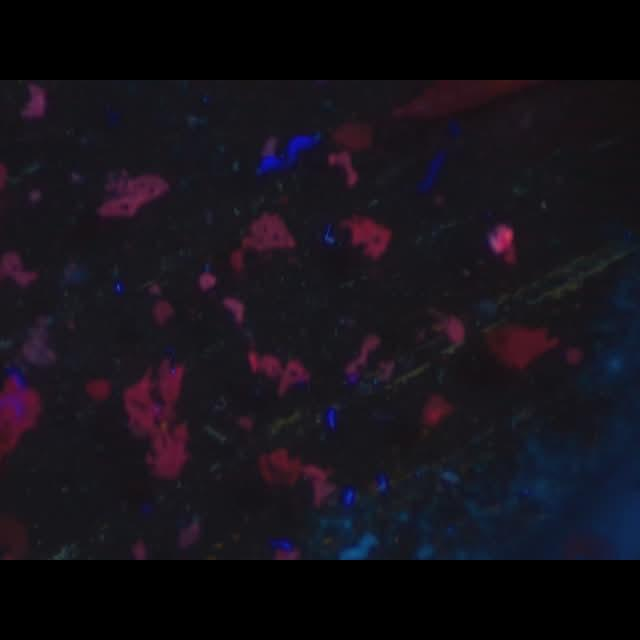Fragment: (126, 358, 190, 480), (98, 169, 168, 219)
